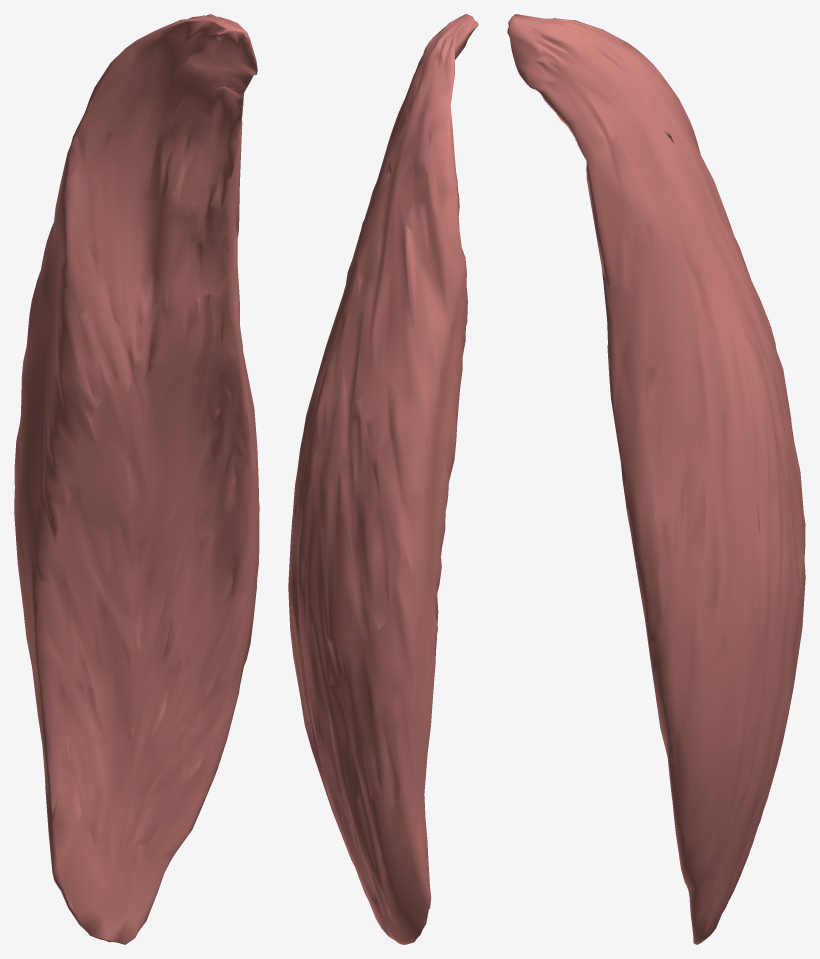
3 views of the same model, side by side, from view 1: azimuth 30°, elevation 25°; view 2: azimuth 150°, elevation 25°; view 3: azimuth 270°, elevation 25° (orthographic). The views are drawn at different scales.
Visible parts, largest first — view 1: ZA_653a39515c39fe94; view 2: ZA_653a39515c39fe94; view 3: ZA_653a39515c39fe94.
Boxes of the visible parts, x1,y1,x2,y2 form: ZA_653a39515c39fe94: [14, 14, 259, 944]; ZA_653a39515c39fe94: [288, 14, 478, 944]; ZA_653a39515c39fe94: [507, 14, 805, 944].
Size of the model in its own units: 0.0541 by 0.2693 by 0.0779.
